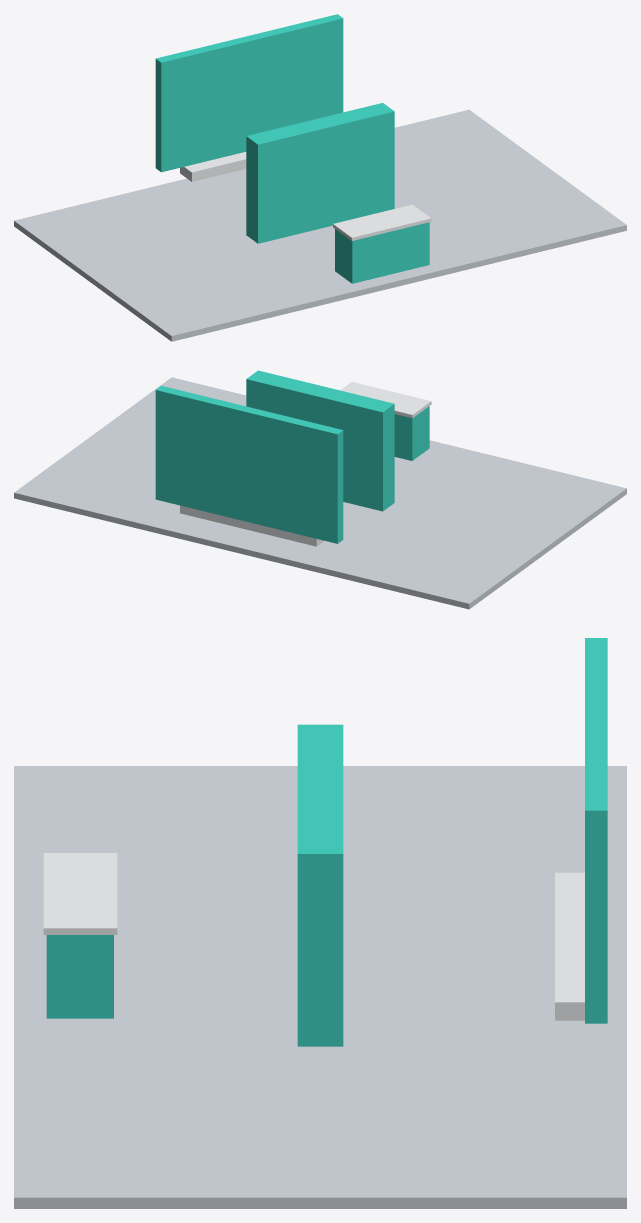
3 renders of one model, top to bottom at view 1: azimuth 30°, elevation 25°; view 2: azimuth 150°, elevation 25°; view 3: azimuth 270°, elevation 25°, orthographic. The views are drawn at different scales.
Parts seen in each view (by area): view 1: Exhibition Booth Concept; view 2: Exhibition Booth Concept; view 3: Exhibition Booth Concept.
Part boxes in pixels (x1,y1,x2,y2): Exhibition Booth Concept: (14, 14, 626, 341); Exhibition Booth Concept: (14, 370, 626, 609); Exhibition Booth Concept: (14, 638, 626, 1208).
Bounding box in the file's own units: 10 × 2.9 × 6.
